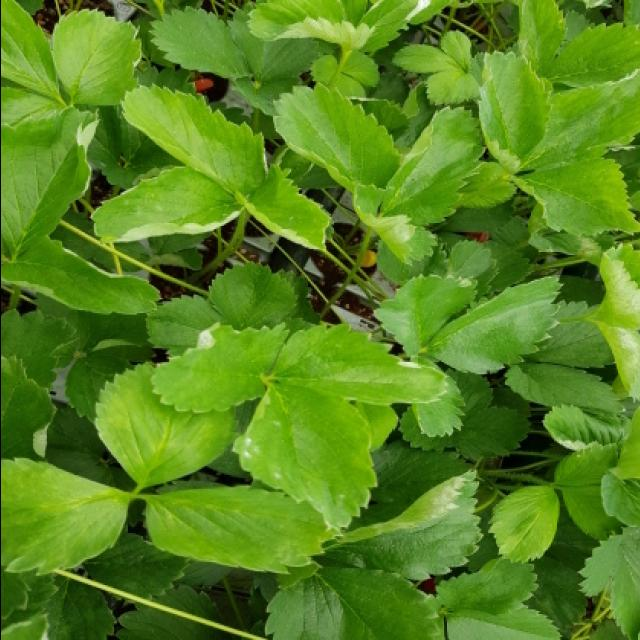Powdery Mildew Leaf: (230, 382, 376, 533), (316, 469, 484, 582), (2, 103, 97, 267), (268, 322, 449, 406), (148, 320, 289, 413), (89, 163, 244, 245), (235, 162, 333, 251), (350, 180, 438, 266), (540, 400, 629, 452)
